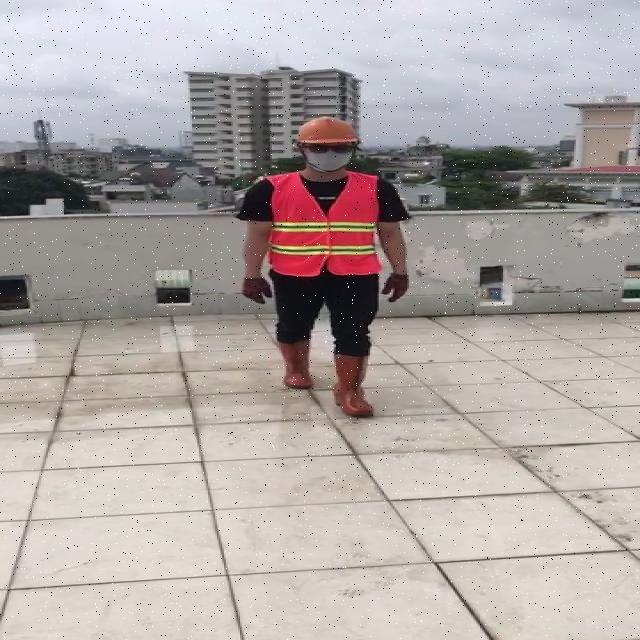Hard_hat: (293, 116, 365, 145)
Vest: (266, 166, 379, 278)
